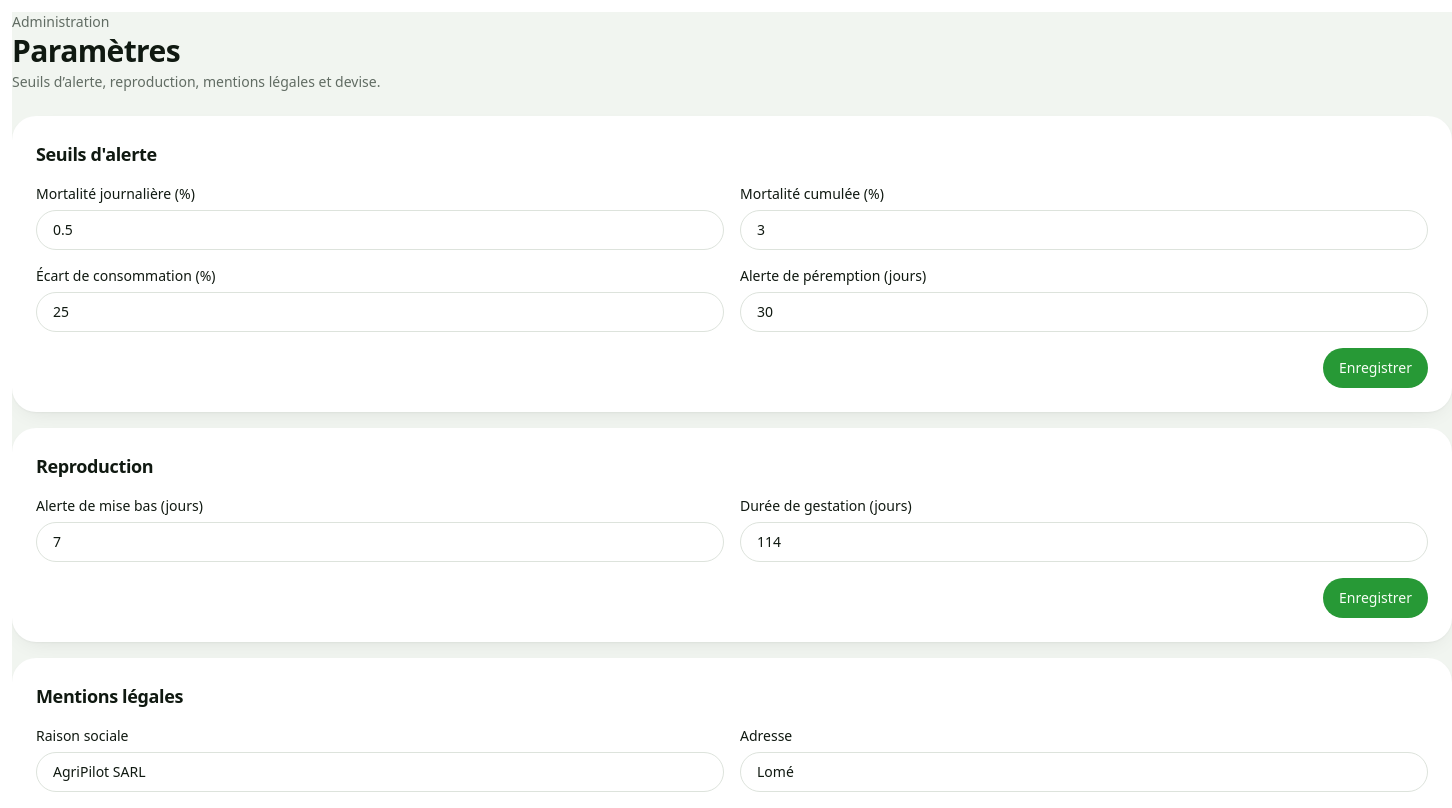
Settings page › saves a group and confirms inline, then shows server errors
Expected: the heading "Reproduction" is shown, x1=36 y1=454 x2=153 y2=478
Expected: the heading "Seuils d'alerte" is shown, x1=36 y1=142 x2=157 y2=166
Replace the text in the number field labelled "Durée de gestation (jours)" with "115": (1084,542) x1=740 y1=522 x2=1428 y2=562
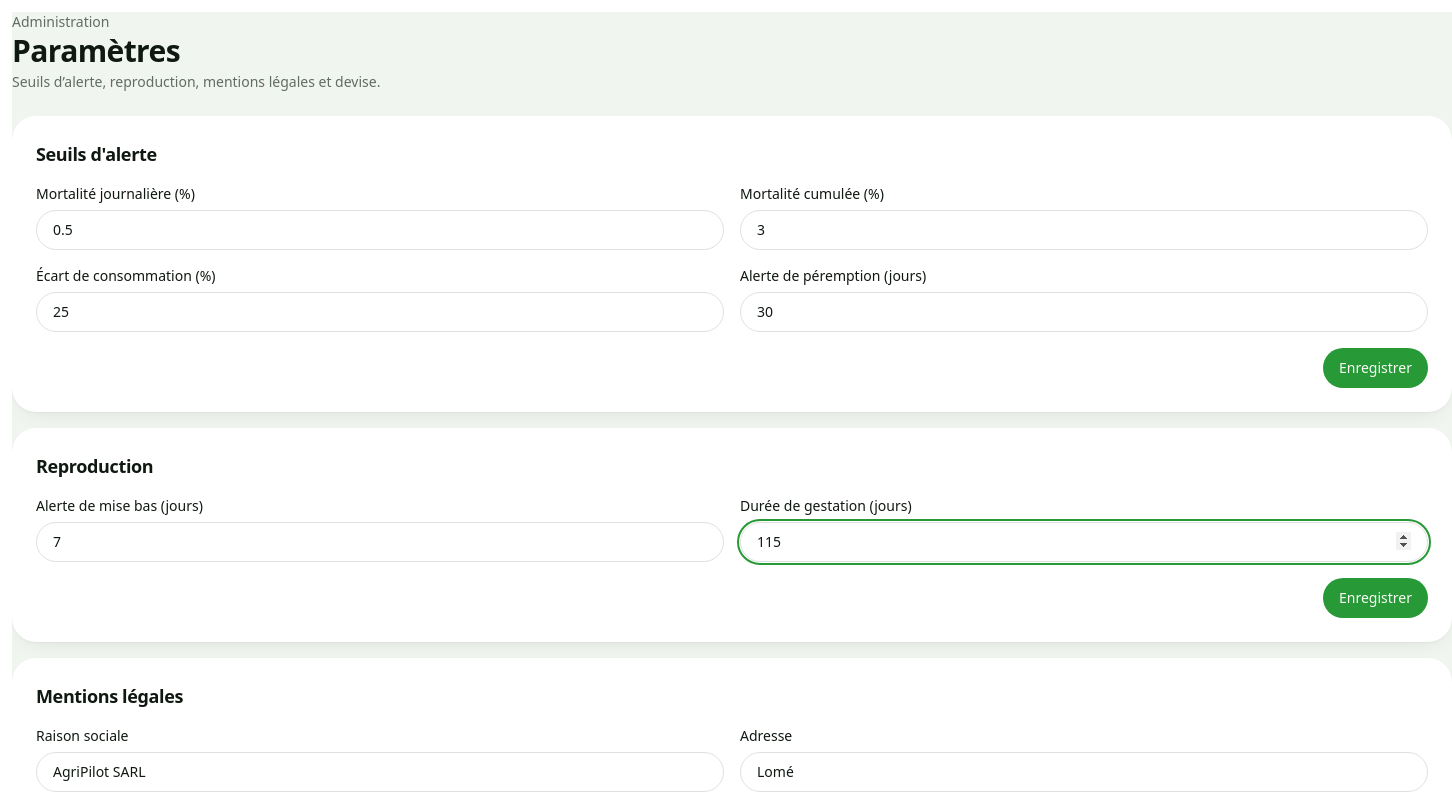
Click the 2nd button "Enregistrer": (1376,598) x1=1323 y1=578 x2=1428 y2=618
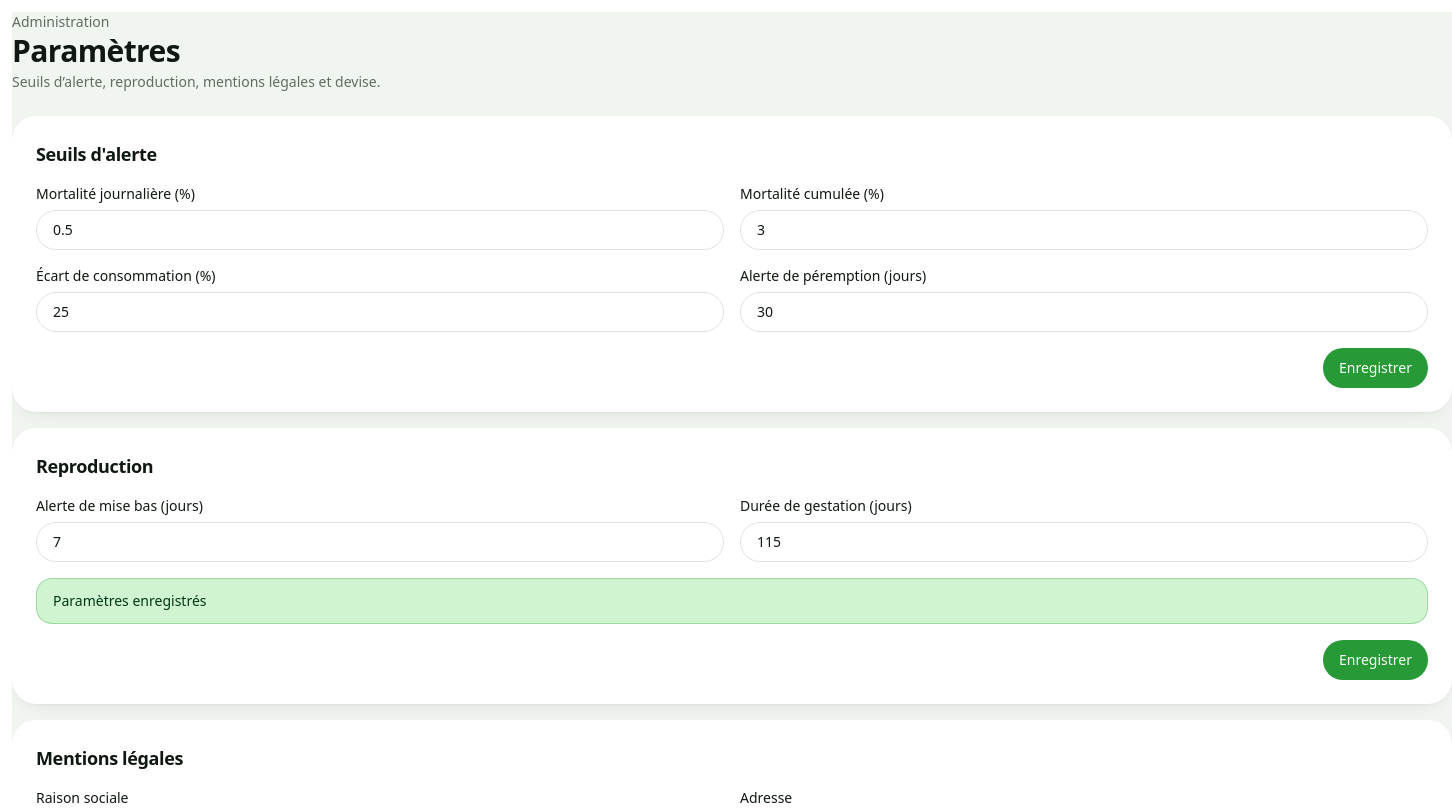
Result: the text "Paramètres enregistrés" is shown at x1=36 y1=578 x2=1428 y2=624
Click the 2nd button "Enregistrer": (1376,660) x1=1323 y1=640 x2=1428 y2=680
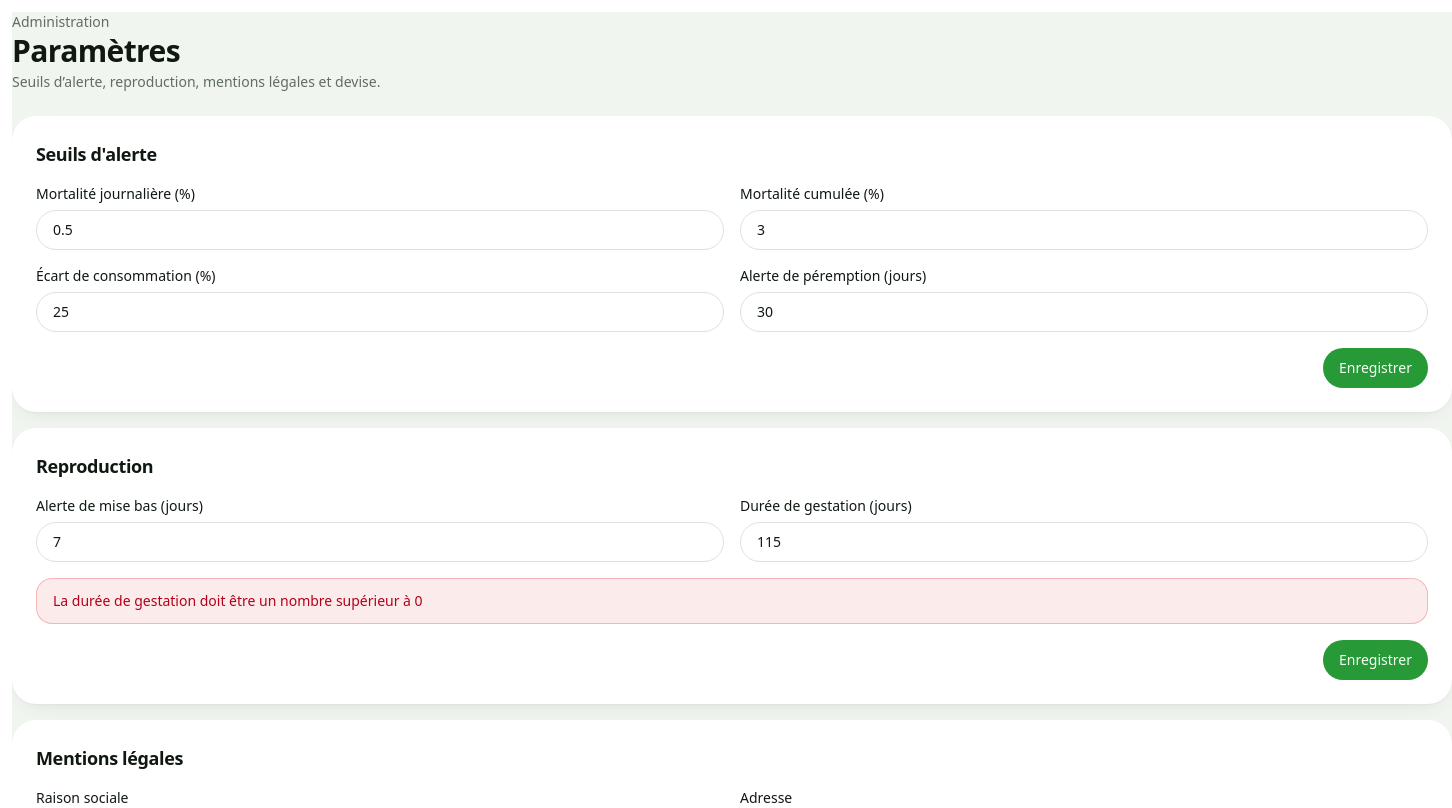
Result: the text "La durée de gestation doit être un nombre supérieur à 0" is shown at x1=36 y1=578 x2=1428 y2=624
